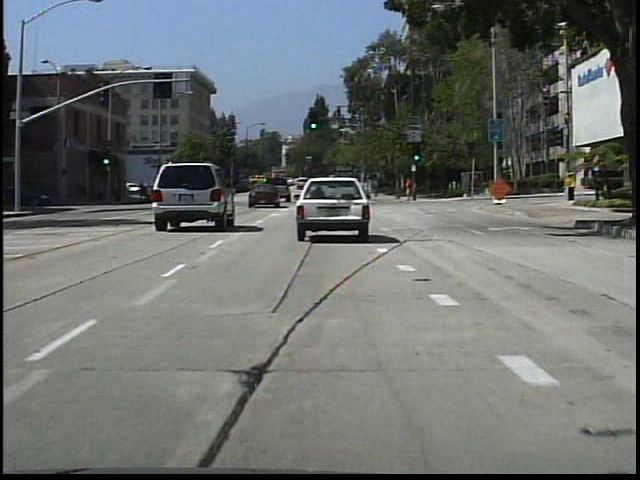person: (403, 174, 419, 206)
